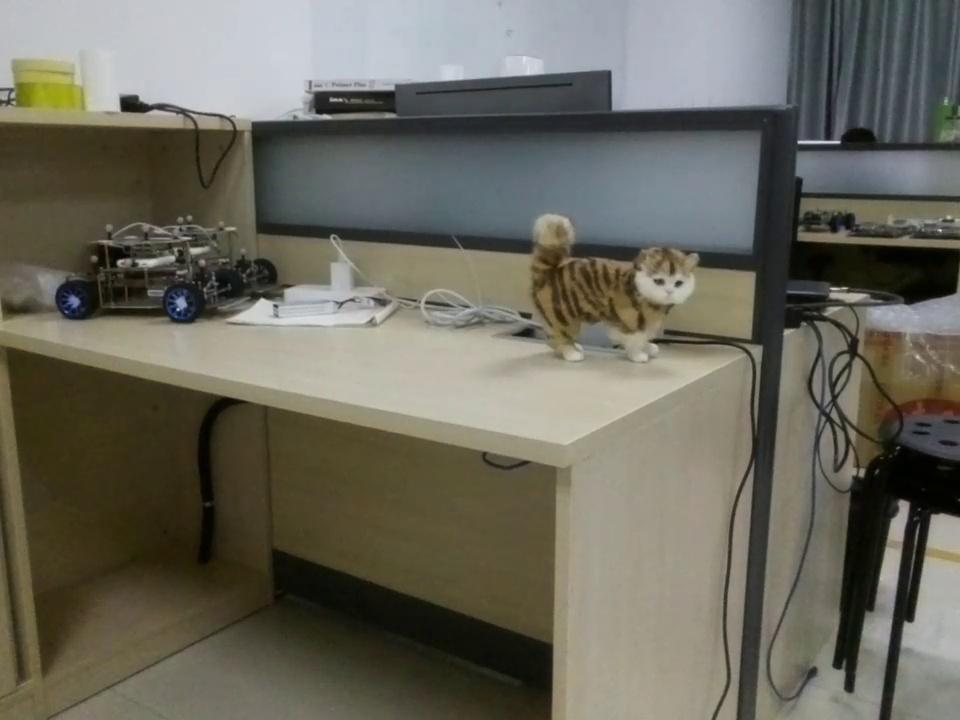cat: (521, 208, 711, 364)
